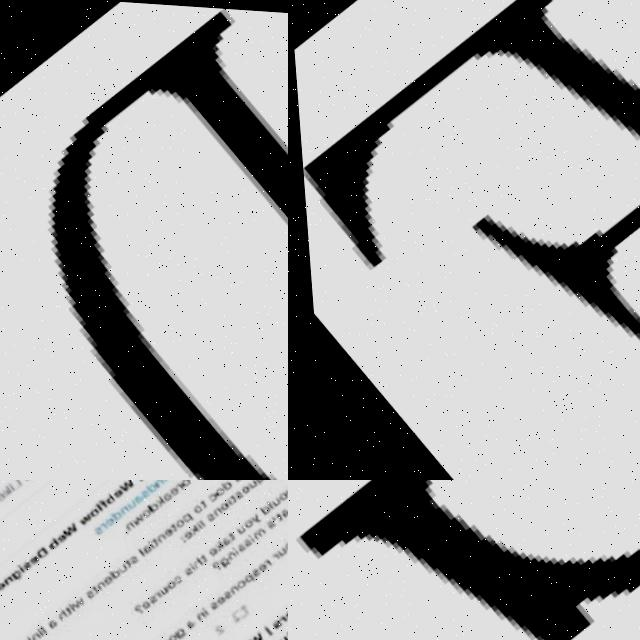2: (206, 616, 218, 628)
A: (214, 528, 227, 540), (128, 487, 138, 498), (136, 537, 147, 547), (178, 612, 189, 622), (157, 484, 167, 494), (40, 614, 50, 624), (274, 500, 284, 510)
B: (97, 486, 111, 500), (41, 533, 53, 544)
C: (202, 484, 213, 495), (167, 567, 178, 578)
D: (0, 0, 288, 480), (28, 541, 42, 555), (102, 560, 115, 574), (142, 494, 154, 506), (254, 496, 266, 507), (105, 504, 117, 515), (262, 631, 275, 640), (282, 591, 288, 605), (140, 480, 152, 486)
E: (106, 481, 119, 493), (276, 600, 288, 612), (98, 510, 111, 521), (50, 527, 61, 538), (96, 568, 107, 579), (177, 522, 188, 533), (134, 592, 145, 603), (157, 520, 167, 531), (203, 539, 213, 550), (250, 554, 261, 564), (208, 587, 219, 597), (22, 550, 32, 560), (163, 480, 173, 489), (233, 634, 246, 640), (235, 480, 245, 487)
F: (288, 0, 640, 480), (91, 492, 102, 503)
G: (288, 480, 640, 640), (212, 548, 225, 561), (168, 621, 180, 632), (5, 565, 16, 576)
H: (49, 604, 61, 615), (185, 550, 197, 561), (280, 491, 288, 504)
I: (9, 558, 18, 568), (60, 597, 69, 607), (219, 489, 228, 499), (182, 555, 191, 564), (225, 539, 234, 548), (141, 533, 149, 543), (241, 526, 249, 536), (189, 514, 197, 523), (1, 480, 10, 486), (29, 624, 36, 631), (194, 601, 201, 608)
K: (149, 489, 161, 500), (207, 533, 218, 544), (182, 517, 193, 527), (14, 631, 26, 640), (0, 480, 6, 491)
L: (89, 496, 98, 505), (261, 492, 270, 501), (193, 510, 201, 520), (32, 620, 40, 628), (132, 542, 139, 549), (4, 480, 16, 484)
M: (245, 518, 261, 532)
N: (119, 514, 130, 525), (89, 574, 100, 585), (23, 626, 34, 637), (220, 542, 231, 553), (222, 576, 233, 587), (150, 526, 161, 536), (207, 499, 217, 510), (189, 603, 200, 613), (114, 498, 124, 508), (0, 569, 6, 580)
O: (82, 500, 95, 512), (228, 570, 241, 582), (276, 531, 288, 543), (187, 496, 198, 507), (159, 626, 170, 637), (214, 493, 225, 503), (273, 482, 283, 493), (238, 510, 248, 521), (136, 501, 146, 511), (170, 511, 180, 521), (159, 573, 169, 583), (209, 480, 220, 489), (152, 632, 163, 640)
P: (237, 564, 250, 578), (176, 505, 188, 517)
R: (257, 551, 266, 559), (265, 544, 273, 553), (272, 607, 281, 615), (147, 584, 155, 593), (94, 516, 102, 524), (170, 480, 178, 484), (284, 636, 288, 640)
S: (264, 610, 276, 622), (78, 583, 89, 594), (200, 504, 211, 515), (141, 588, 152, 599), (260, 510, 271, 521), (236, 529, 247, 540), (243, 559, 254, 570), (202, 593, 213, 604), (135, 482, 145, 493), (87, 520, 98, 530), (228, 482, 239, 492), (176, 559, 187, 569), (16, 555, 26, 565), (216, 583, 226, 593), (123, 549, 132, 557), (231, 535, 239, 544), (282, 617, 288, 627)
T: (221, 523, 231, 534), (192, 546, 203, 556), (278, 622, 287, 631), (194, 491, 202, 500), (163, 516, 171, 525), (145, 530, 153, 539), (117, 553, 126, 561), (223, 486, 231, 495), (270, 504, 278, 513), (84, 579, 92, 587), (57, 601, 65, 609)
U: (270, 626, 282, 638), (121, 493, 132, 504), (111, 557, 122, 567), (265, 490, 276, 500), (152, 578, 162, 589), (231, 517, 241, 527), (271, 538, 281, 548)
W: (55, 515, 75, 534), (239, 623, 257, 640), (72, 506, 87, 520), (125, 506, 141, 519), (65, 591, 78, 604), (112, 480, 130, 487), (278, 480, 288, 488)
Y: (245, 505, 256, 517), (285, 526, 288, 538)
